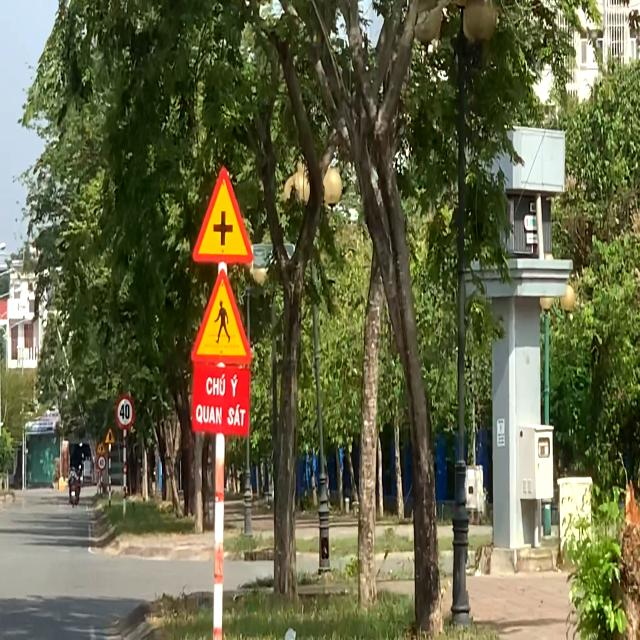P.127: (114, 394, 136, 430)
W.205a: (186, 160, 256, 269)
W.207b: (104, 428, 116, 446)
W.224: (186, 265, 253, 366)
